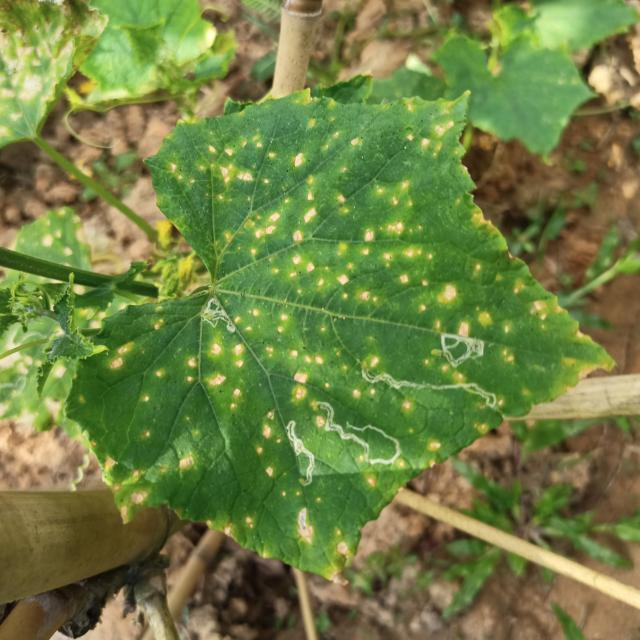disease_cucumber: (166, 117, 558, 334), (139, 339, 247, 434), (103, 445, 197, 520), (280, 492, 354, 557), (252, 341, 325, 405), (349, 384, 421, 413), (253, 409, 278, 480), (204, 512, 258, 538), (104, 341, 132, 377), (424, 359, 464, 382)
